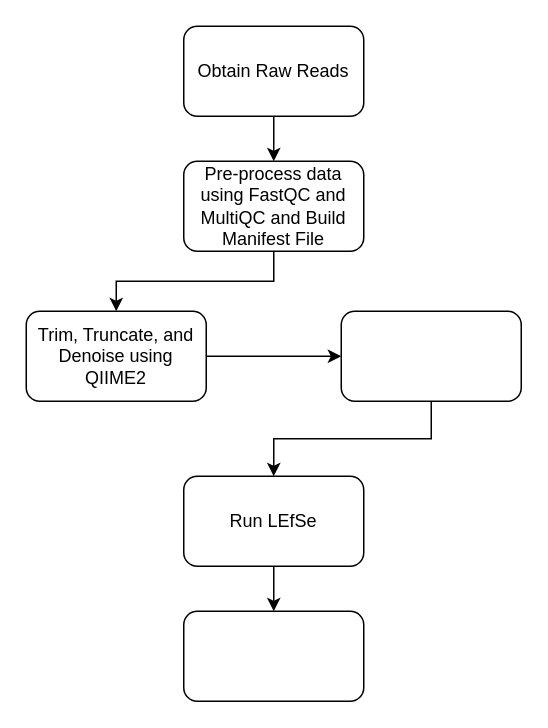
The diagram is 548 pixels wide and 728 high, and some of its shapes have lost their labels. Here are the shapes that lost their labels. From the top down, the centre of each, then its label:
pixel 430 355: Collect Diversity Metrics using QIIME2
pixel 273 655: Plot Results using R
